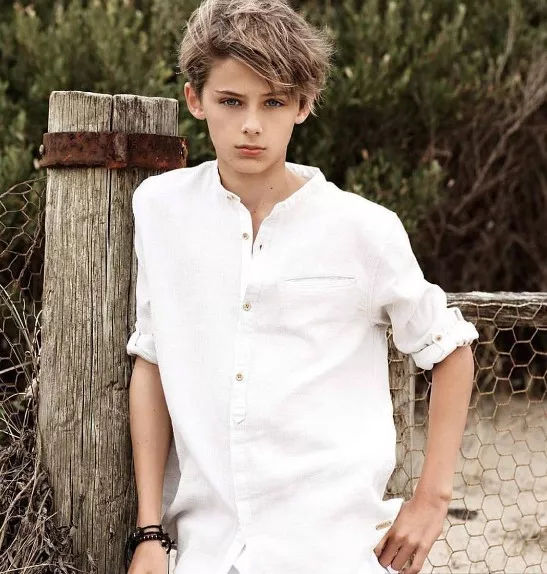other: (117, 5, 523, 567)
